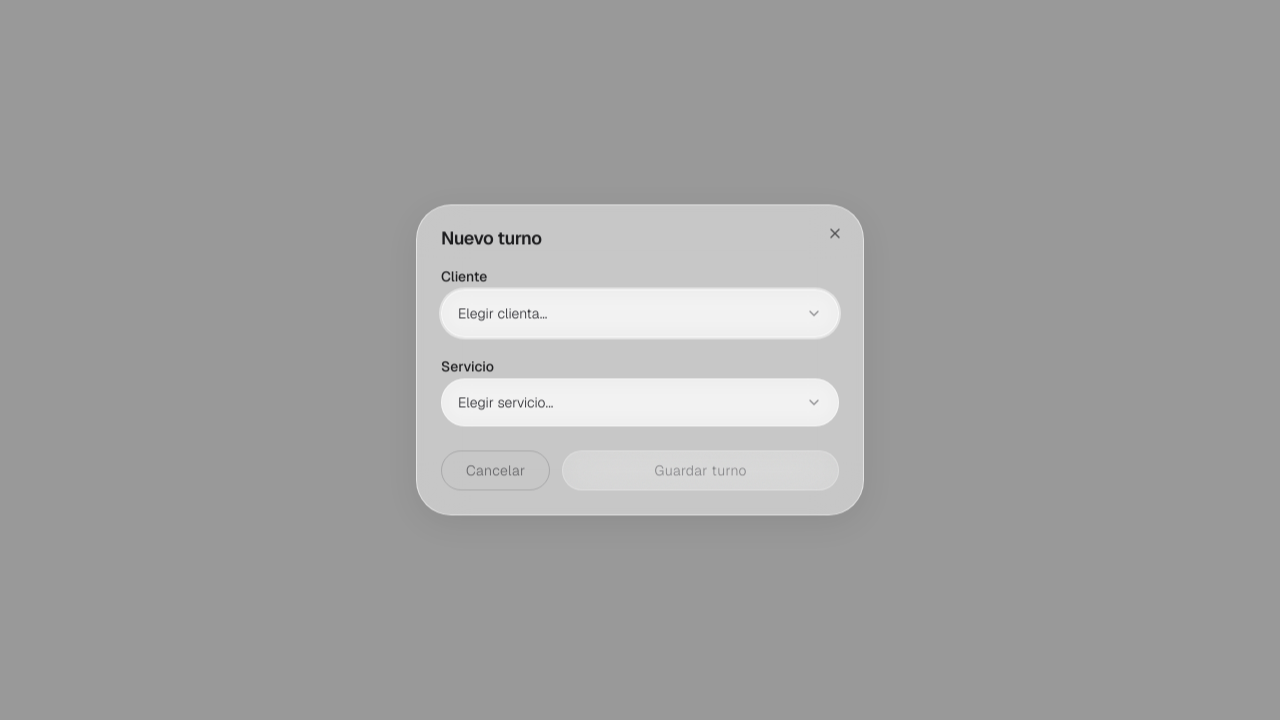
Scenario: NewBookingDialog (NAIL-L3) › disables save until client, service and hour are chosen
Expected: the button "Guardar turno" is disabled, [562,451,839,491]
Click the dropdown named "Cliente": (503, 313) [441,289,839,337]
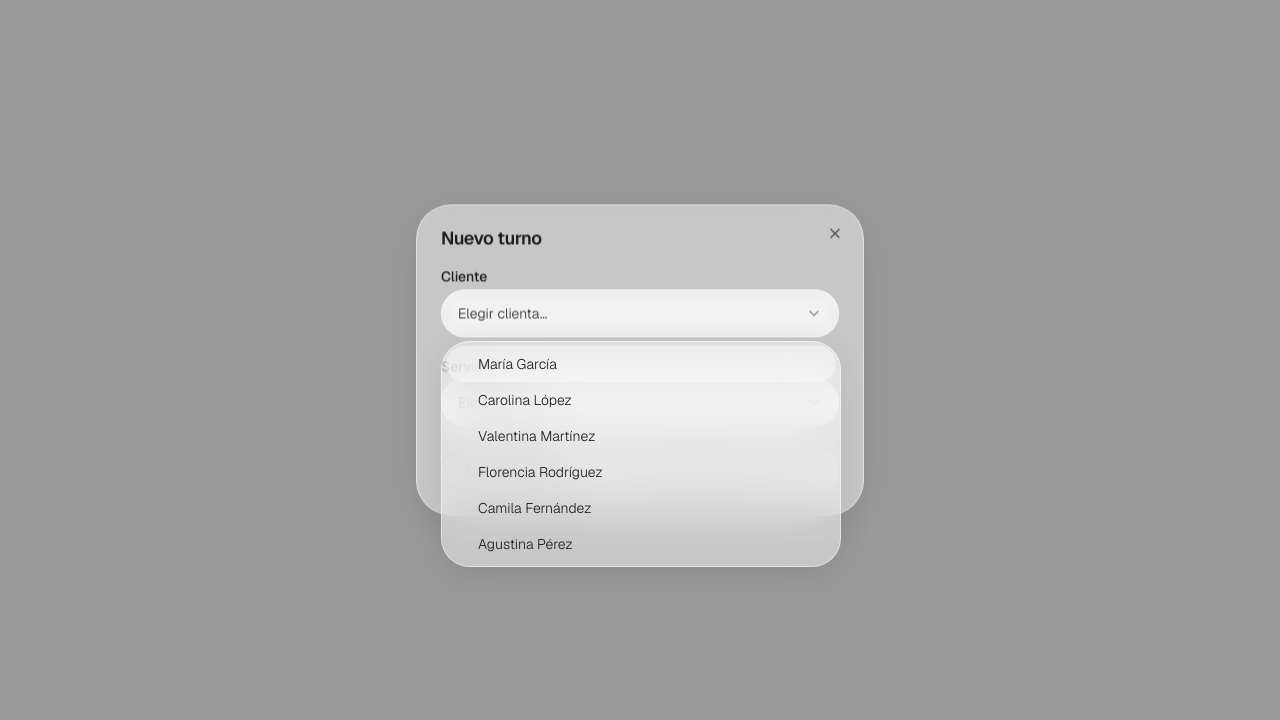
Click the option "María García": (517, 364) [446,346,836,382]
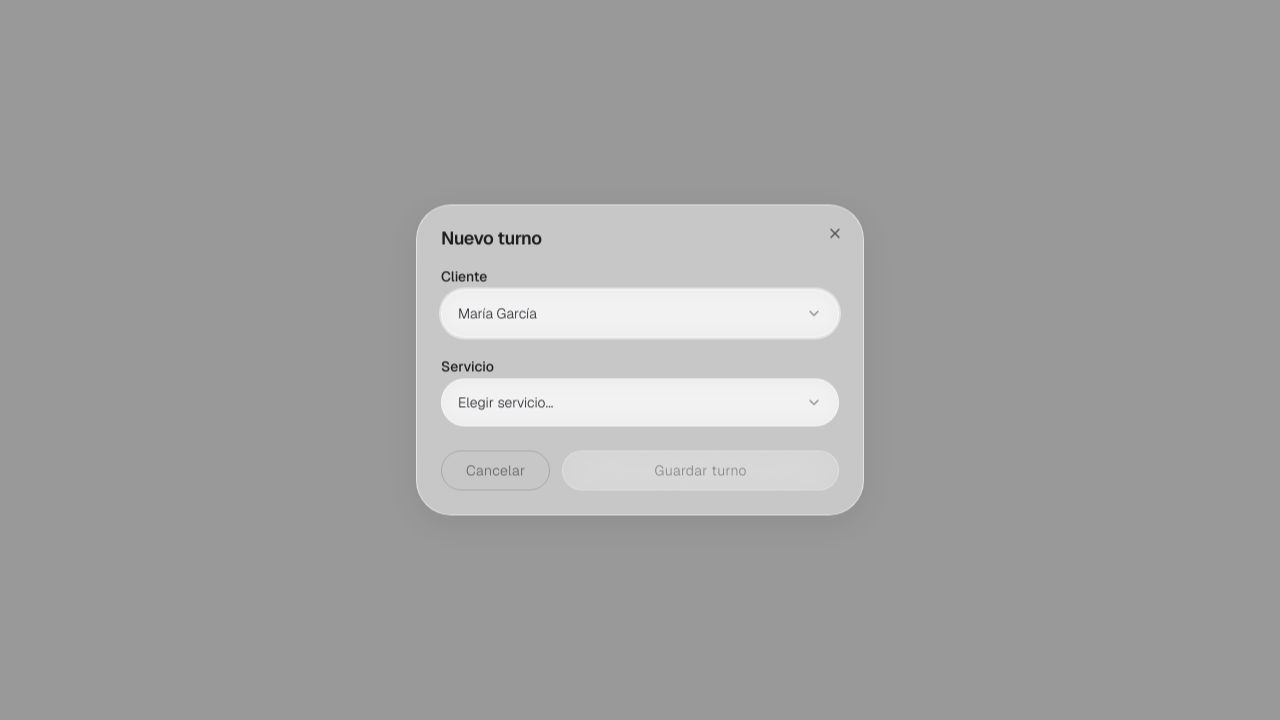
Click the dropdown labelled "servicio": (506, 403) [441,379,839,427]
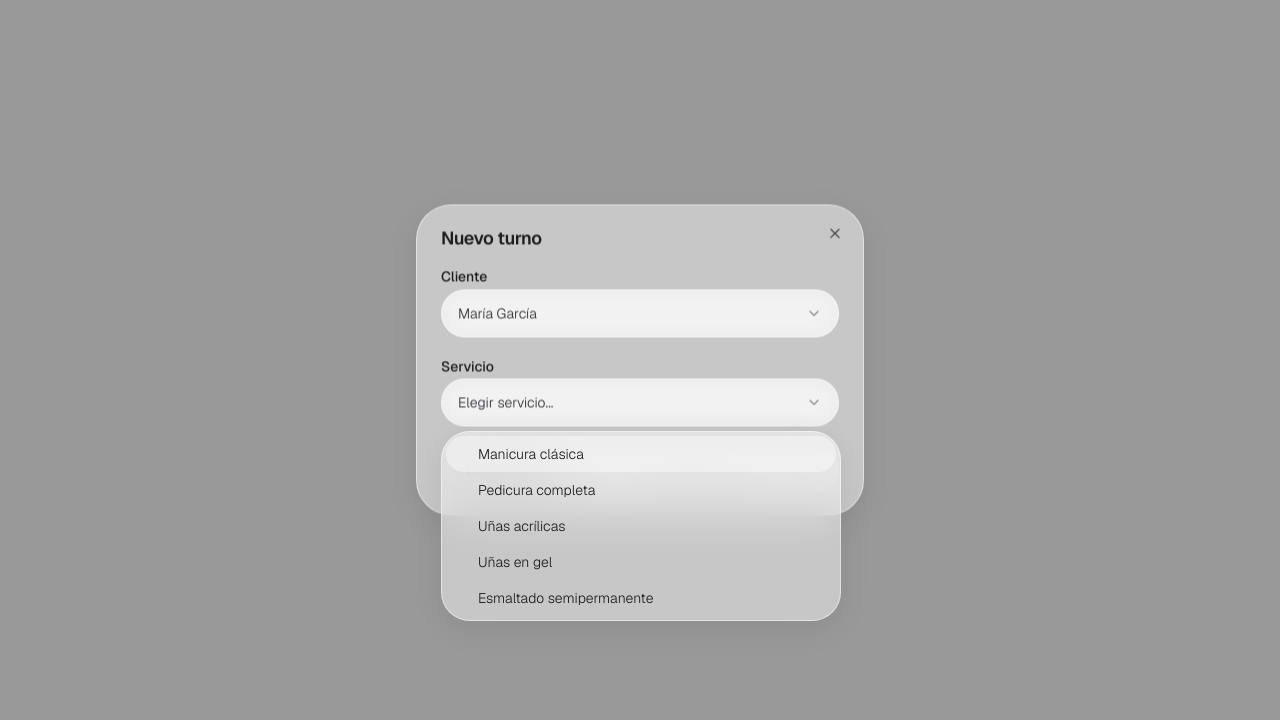
Click the option "Manicura clásica": (531, 454) [446,436,836,472]
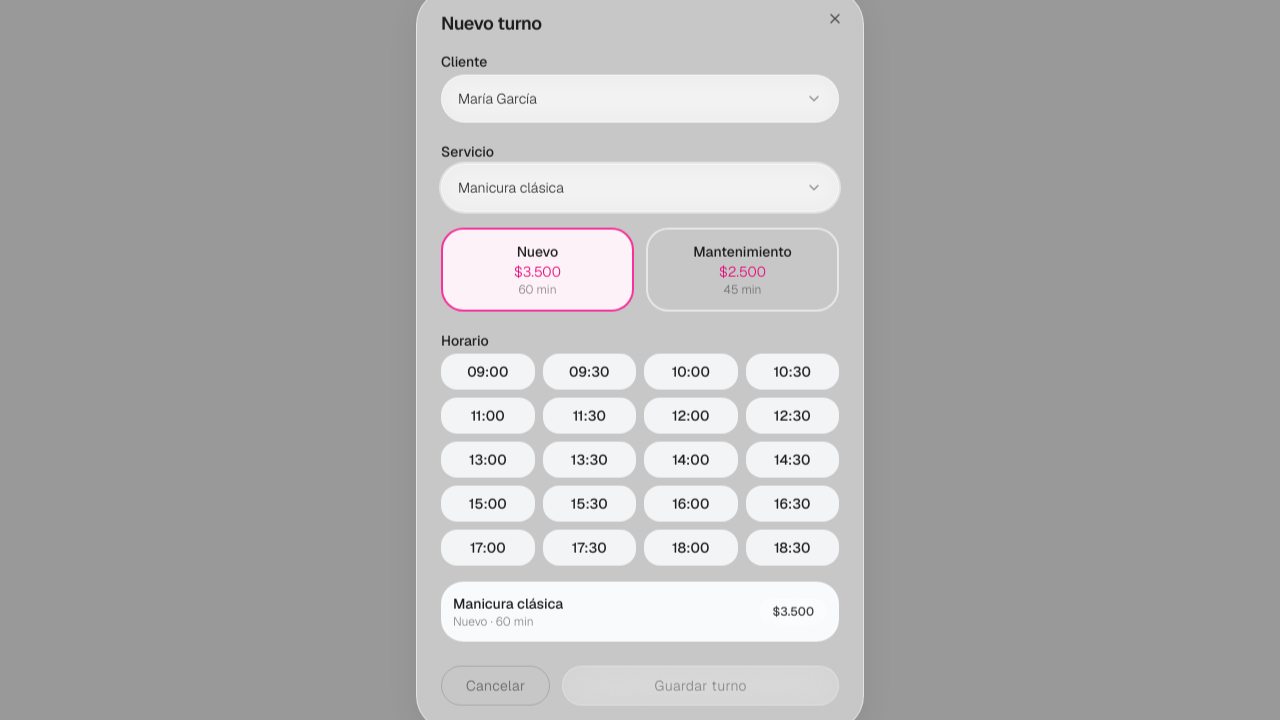
Expected: the button "Guardar turno" is disabled, [562,665,839,705]
Click the button "09:00": (488, 371) [441,353,534,389]
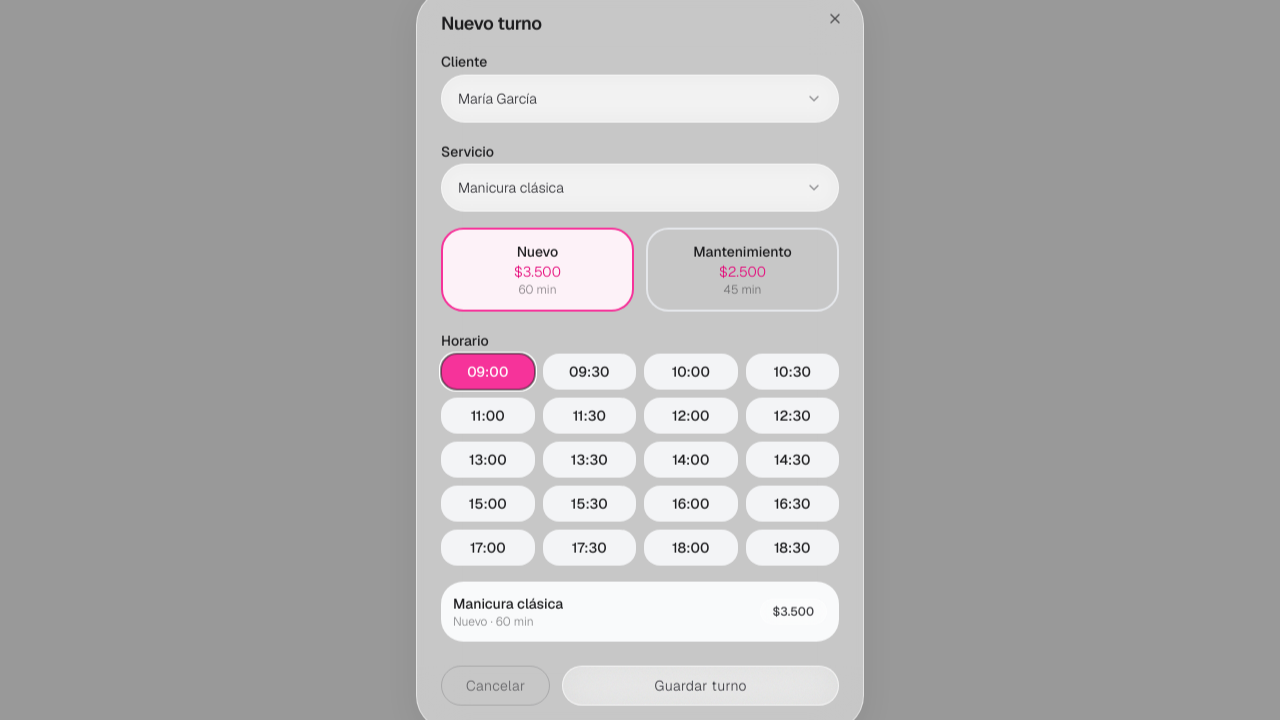
Result: the button "Guardar turno" is enabled at [562,665,839,705]
